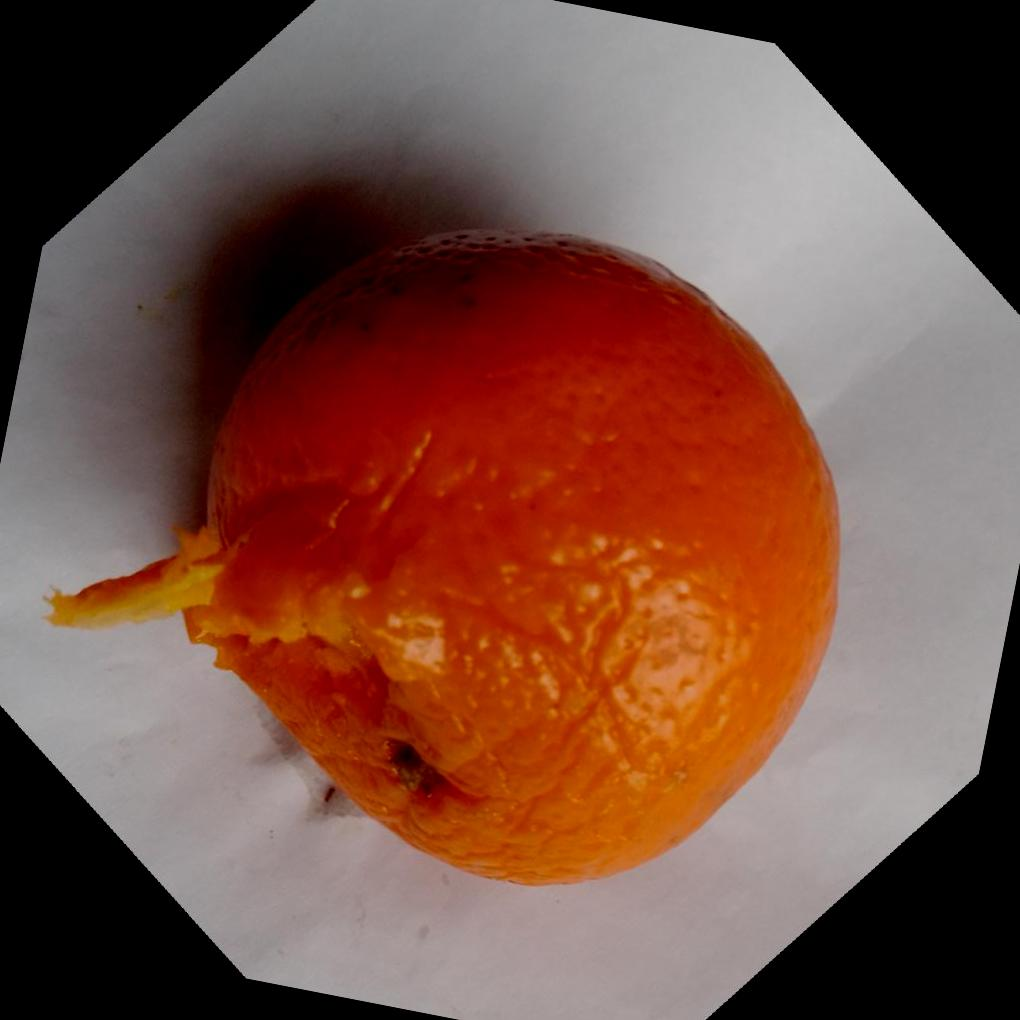FreshOrange: (50, 228, 845, 888)
